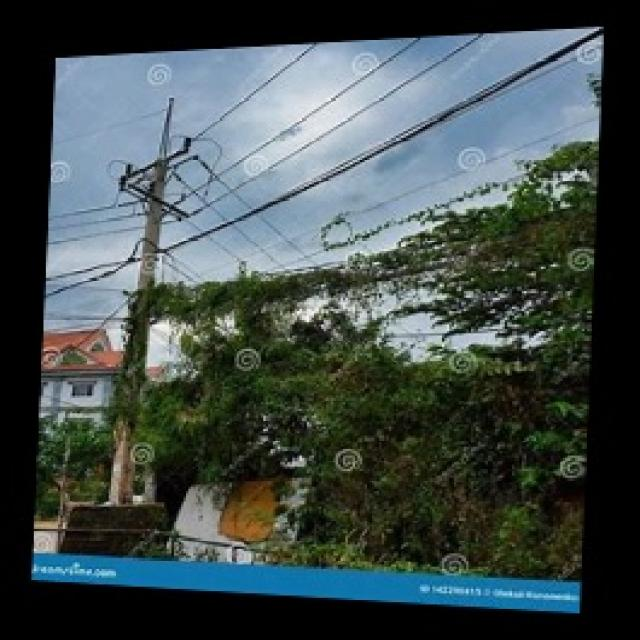critical vegetation: (128, 237, 586, 378)
